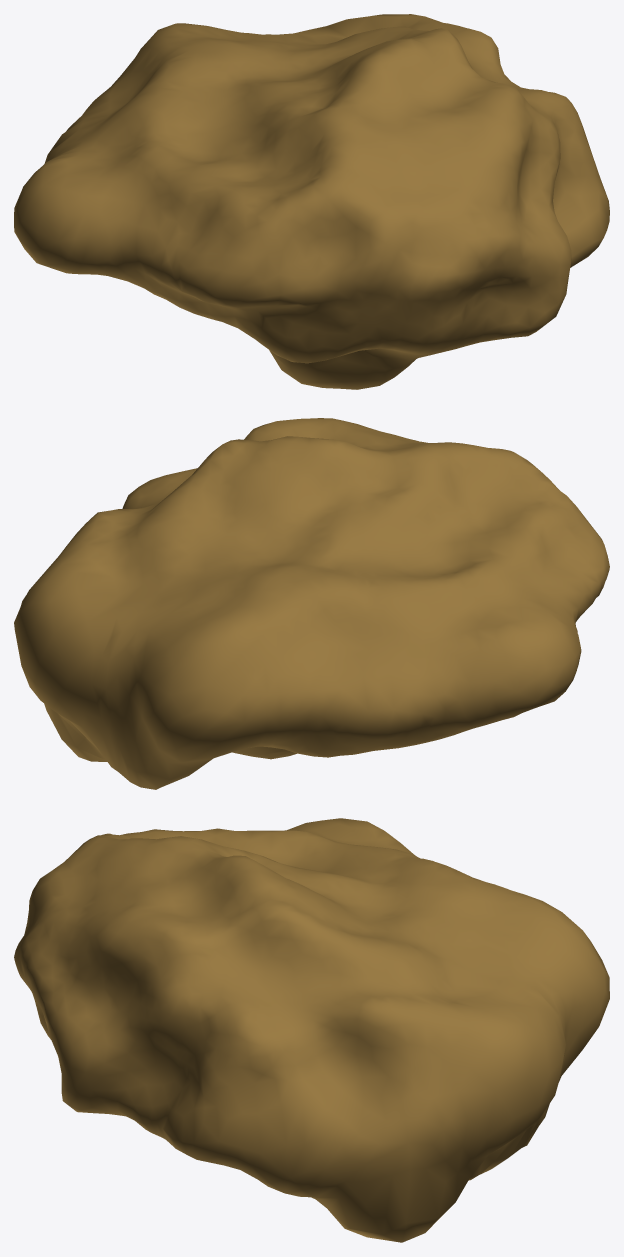
File: little_shooting_star_2.fbx
3 views of the same model, one above another, from view 1: azimuth 30°, elevation 25°; view 2: azimuth 150°, elevation 25°; view 3: azimuth 270°, elevation 25° (orthographic). The views are drawn at different scales.
Visible parts, largest first — view 1: Sphere; view 2: Sphere; view 3: Sphere.
Part boxes in pixels (box(x1,y1,x2,y2)): Sphere: box(14, 14, 609, 389); Sphere: box(14, 418, 609, 789); Sphere: box(14, 818, 609, 1242).
Bounding box in the file's own units: 834 × 455 × 815.
